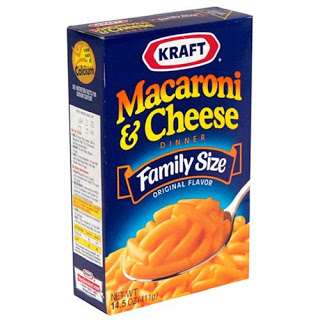macncheese: (101, 198, 251, 312)
